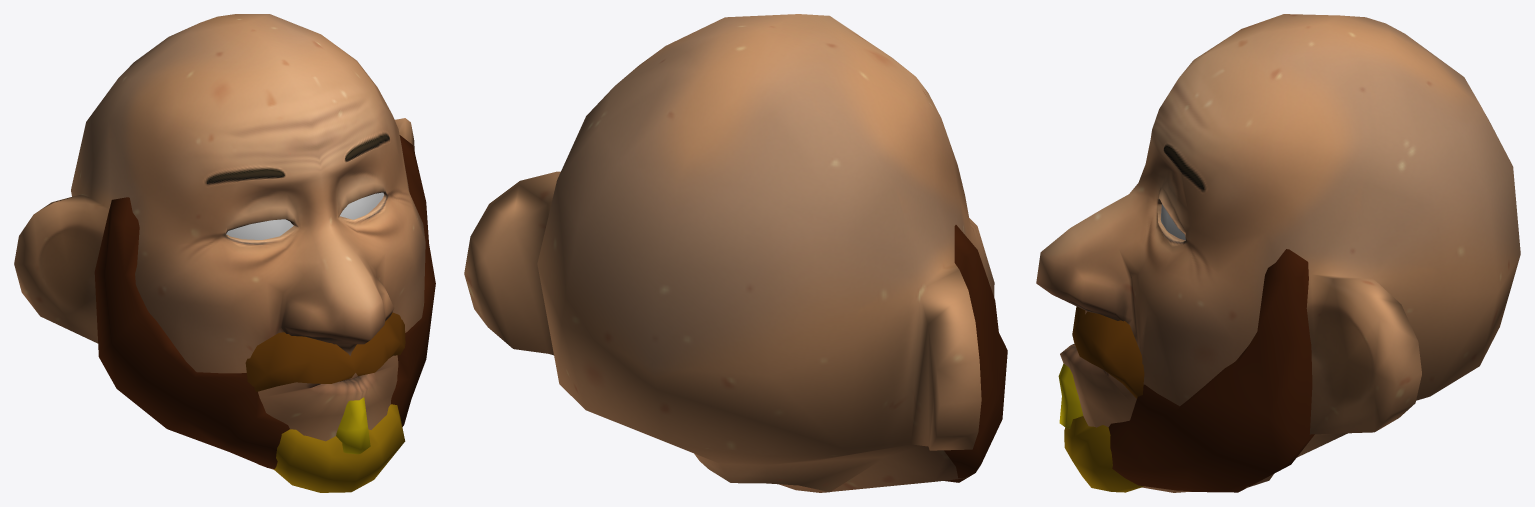
The model's file is E_sitpose04.fbx.
The picture shows the model from 3 angles, left to right: view 1: azimuth 30°, elevation 25°; view 2: azimuth 150°, elevation 25°; view 3: azimuth 270°, elevation 25°; orthographic projection. The views are drawn at different scales.
Visible parts, largest first — view 1: HEAD, BEARD; view 2: HEAD, BEARD; view 3: HEAD, BEARD.
Part boxes in pixels (x1,y1,x2,y2): HEAD: [14, 14, 425, 469]; BEARD: [94, 135, 435, 492]; HEAD: [464, 14, 994, 492]; BEARD: [944, 225, 1007, 482]; HEAD: [1036, 14, 1520, 492]; BEARD: [1058, 249, 1314, 492].
Bounding box in the file's own units: 27.45 × 25.94 × 24.9.
